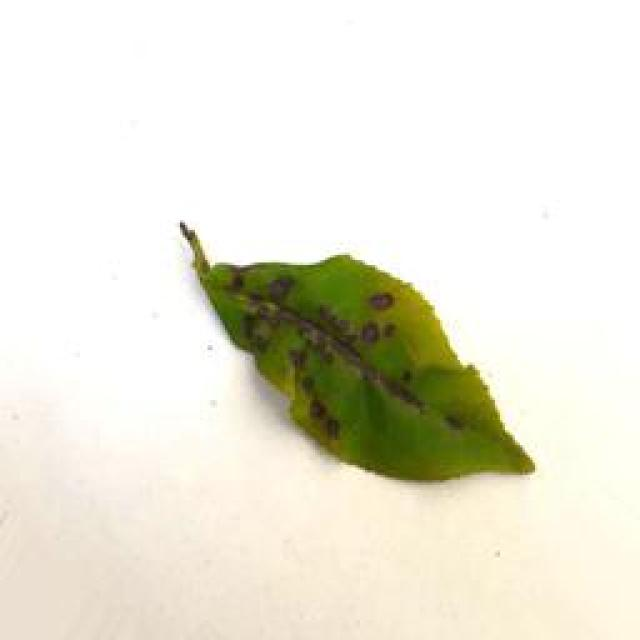Helopeltis: (180, 218, 550, 484)
